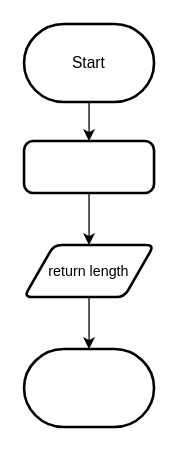
The diagram is 177 pixels wide and 450 high, and some of its shapes have lost their labels. The centre of each missing label's shape, as x and y in pixels:
"let length = this.stackList.length" goes at point (88, 166).
"Stop" goes at point (88, 387).
